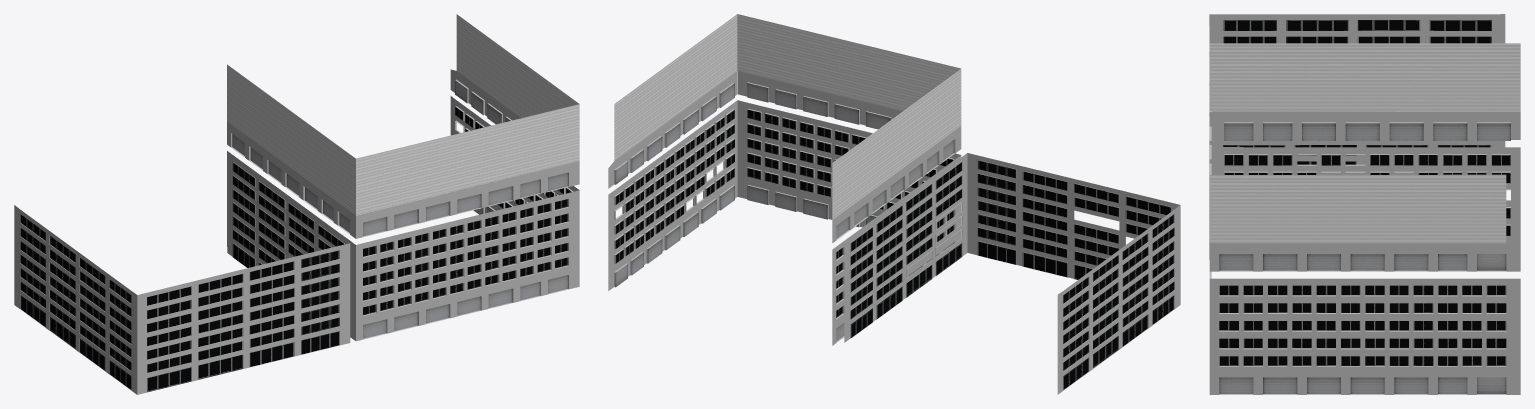
File: Builders 1.fbx
The picture shows the model from 3 angles, left to right: view 1: azimuth 30°, elevation 25°; view 2: azimuth 150°, elevation 25°; view 3: azimuth 270°, elevation 25°; orthographic projection. The views are drawn at different scales.
Visible parts, largest first — view 1: Plane.007, Plane.018, Plane.002; view 2: Plane.007, Plane.018, Plane.002; view 3: Plane.018, Plane.002, Plane.007.
Part boxes in pixels (<box>): Plane.007: <box>14,153,350,394</box>; Plane.018: <box>227,14,579,238</box>; Plane.002: <box>227,96,579,341</box>; Plane.007: <box>844,153,1180,394</box>; Plane.018: <box>608,14,961,242</box>; Plane.002: <box>608,100,961,345</box>; Plane.018: <box>1209,43,1520,271</box>; Plane.002: <box>1209,147,1520,394</box>; Plane.007: <box>1209,14,1505,259</box>.
Size of the model in its own units: 5940 by 2344 by 3004.
